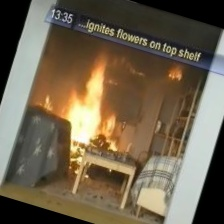fire: (49, 52, 138, 156)
